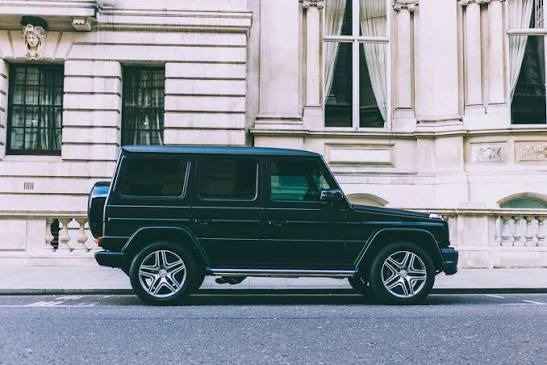car: (86, 148, 436, 307)
